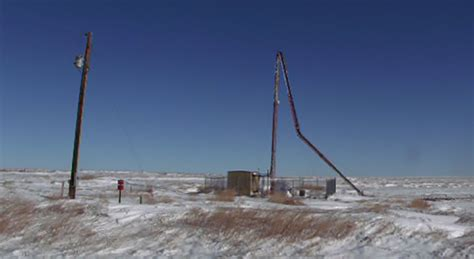pole: (66, 26, 100, 209)
w: (292, 121, 363, 209), (261, 47, 296, 199)
